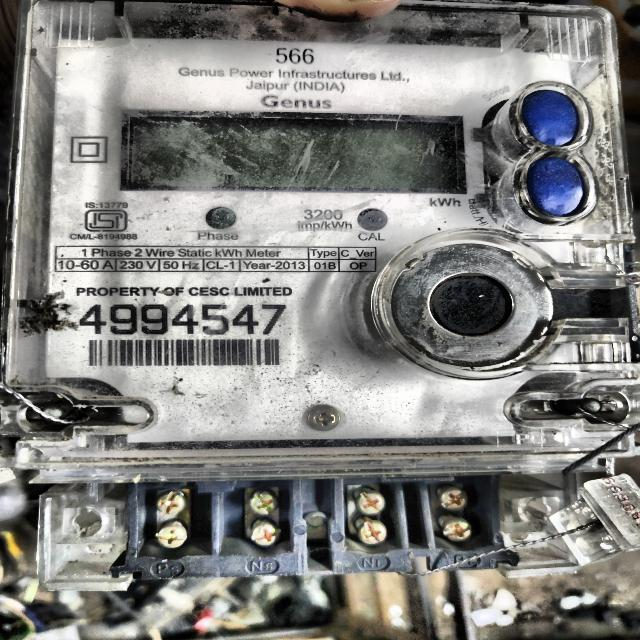Digital: (15, 0, 640, 580)
Reading: (132, 118, 456, 194)
Serial No.: (79, 302, 288, 337)
